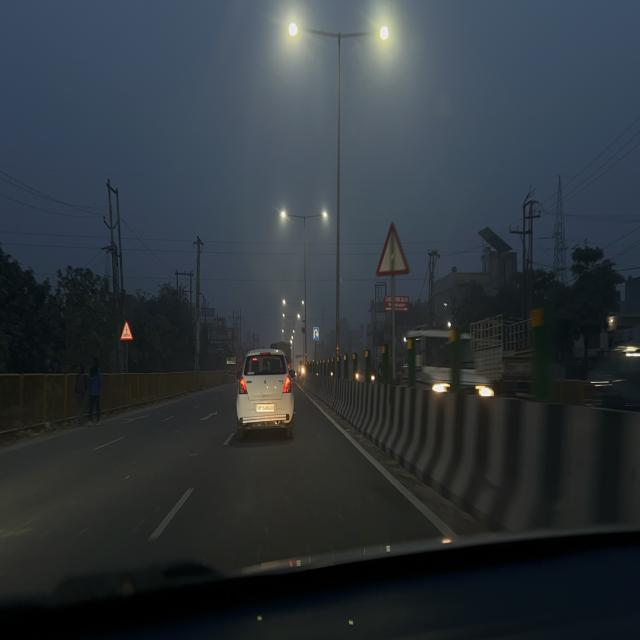GAP_IN_MEDIAN: (375, 220, 410, 279)
PEDESTRIAN_CROSSING: (120, 319, 133, 342)
U_TURN: (313, 327, 319, 341)
